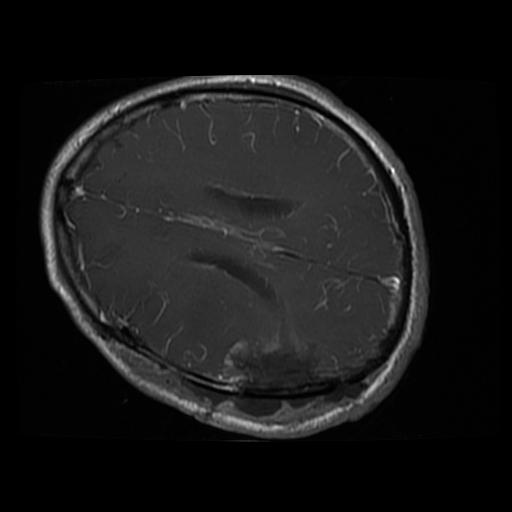glioma: (218, 336, 327, 417)
